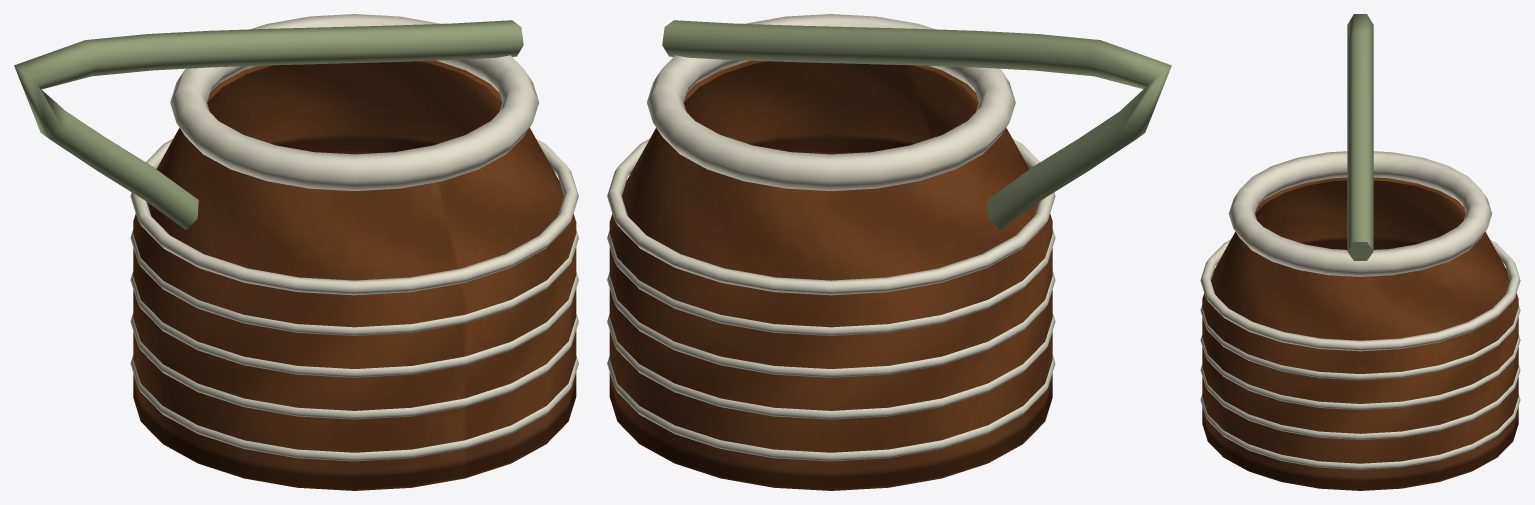
The model's file is primitive-crafting-workshop-fish-creel-a207ca81__21576.glb.
3 views of the same model, side by side, from view 1: azimuth 30°, elevation 25°; view 2: azimuth 150°, elevation 25°; view 3: azimuth 270°, elevation 25° (orthographic). The views are drawn at different scales.
Parts seen in each view (by area): view 1: fish-creel; view 2: fish-creel; view 3: fish-creel.
Part boxes in pixels (x1=…): fish-creel: x1=14, y1=14, x2=578, y2=490; fish-creel: x1=607, y1=14, x2=1171, y2=490; fish-creel: x1=1200, y1=14, x2=1520, y2=490.
Size of the model in its own units: 0.6634 by 0.5179 by 0.486.
3 materials, 1 textured.
